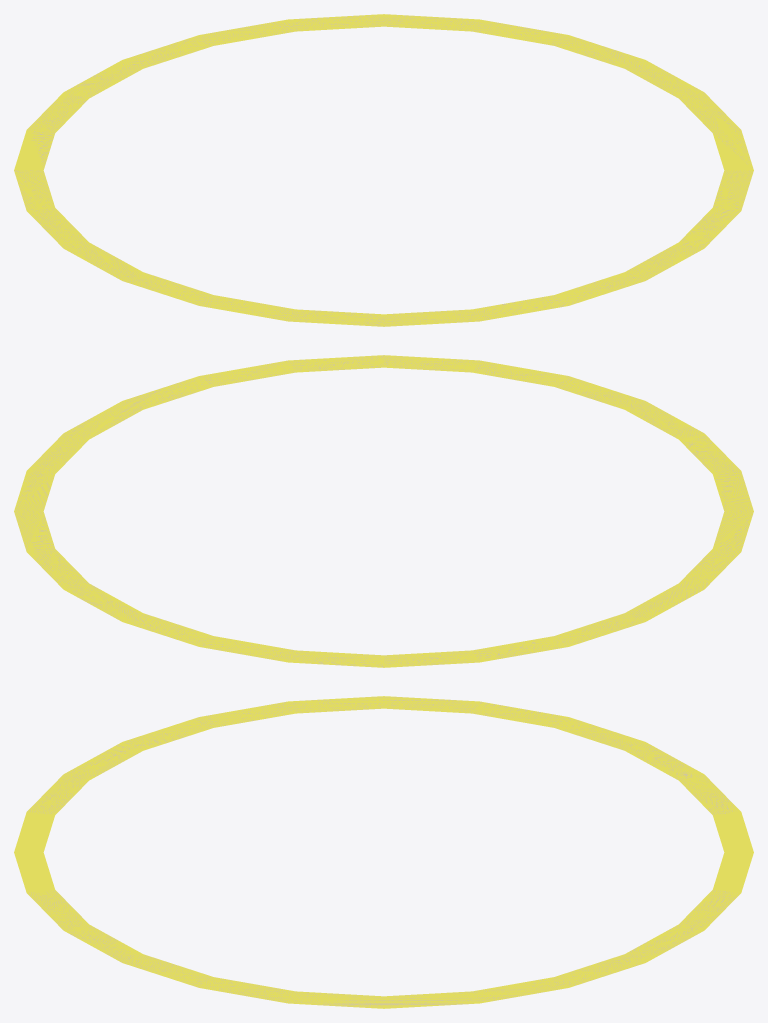
Rendered from original-35.obj.
The picture shows the model from 3 angles, top to bottom: view 1: azimuth 30°, elevation 25°; view 2: azimuth 150°, elevation 25°; view 3: azimuth 270°, elevation 25°; orthographic projection.
Parts seen in each view (by area): view 1: 3dw.b296fbfbbe5dccf09c12d6260da9ac2b/Model/mesh1/mesh1-geometry/; view 2: 3dw.b296fbfbbe5dccf09c12d6260da9ac2b/Model/mesh1/mesh1-geometry/; view 3: 3dw.b296fbfbbe5dccf09c12d6260da9ac2b/Model/mesh1/mesh1-geometry/.
Boxes of the visible parts, bbox=[...] form: 3dw.b296fbfbbe5dccf09c12d6260da9ac2b/Model/mesh1/mesh1-geometry/: bbox=[14, 14, 753, 326]; 3dw.b296fbfbbe5dccf09c12d6260da9ac2b/Model/mesh1/mesh1-geometry/: bbox=[14, 355, 753, 667]; 3dw.b296fbfbbe5dccf09c12d6260da9ac2b/Model/mesh1/mesh1-geometry/: bbox=[14, 696, 753, 1008].
Bounding box in the file's own units: 0.2522 × 0 × 0.2522.
